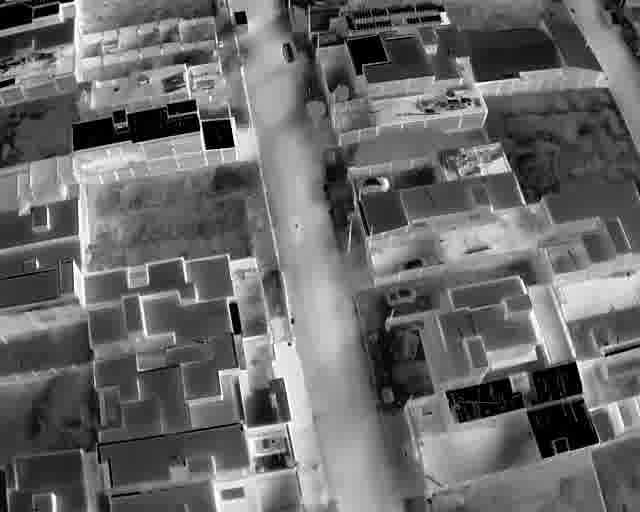car: (355, 176, 390, 196), (384, 287, 417, 304), (392, 258, 427, 272), (281, 41, 294, 63)
